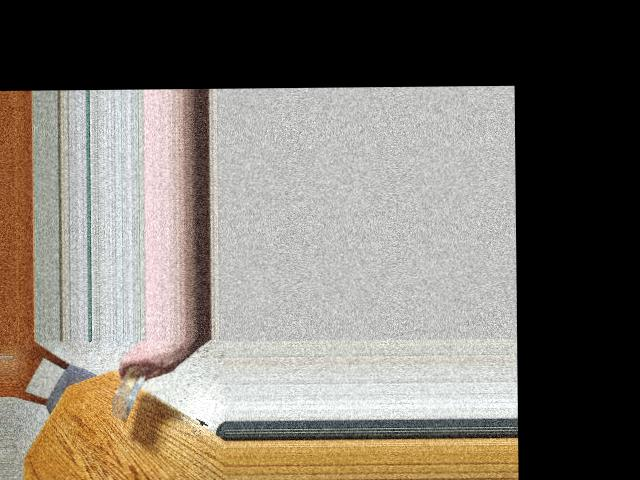cheese: (110, 358, 146, 424)
